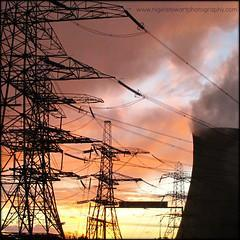power_tower: (85, 117, 140, 238), (160, 159, 192, 239)
